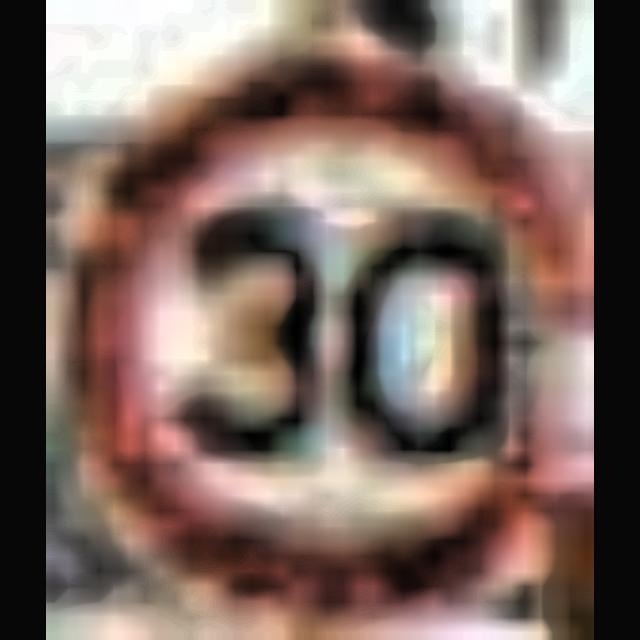speed_30: (88, 52, 586, 600)
